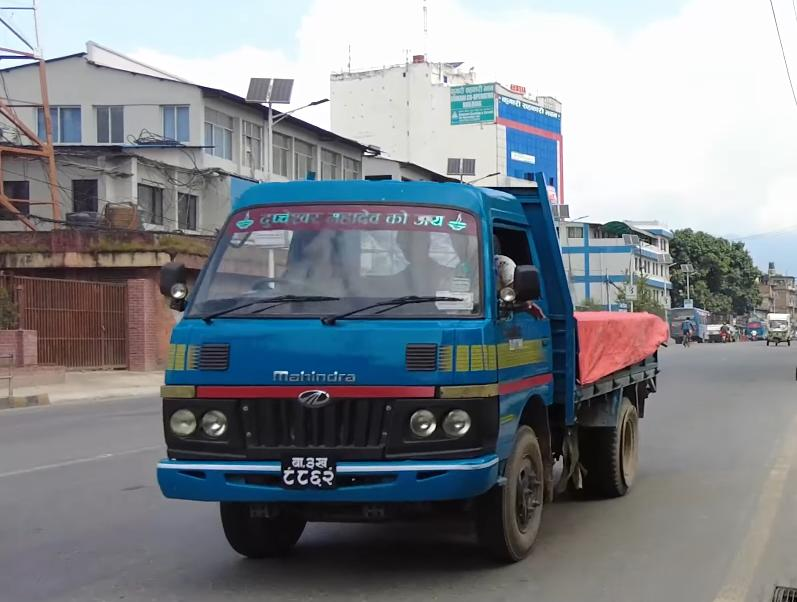mini_truck: (150, 160, 665, 561)
